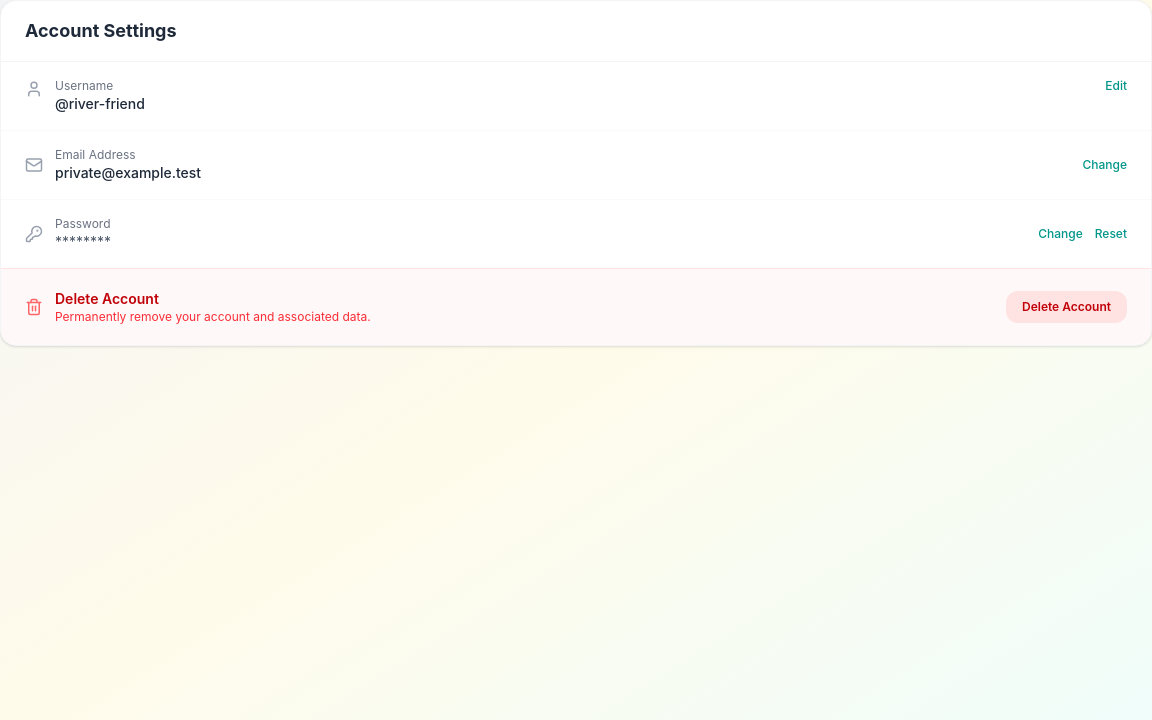
Test: username-only account settings › keeps the username available for correction when saving fails
This screenshot has width=1152, height=720.
Click the button "Edit" at [1116, 86], box [1105,78,1127,94]
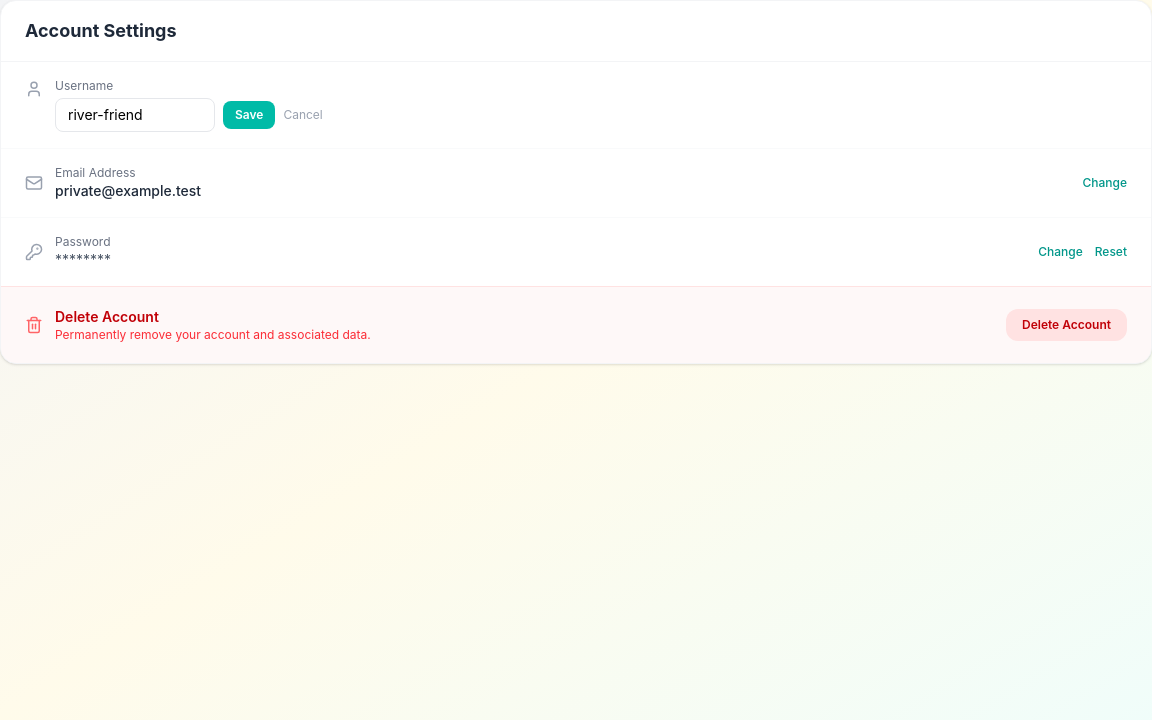
Click the button "Save" at [249, 115], box [223,101,275,129]
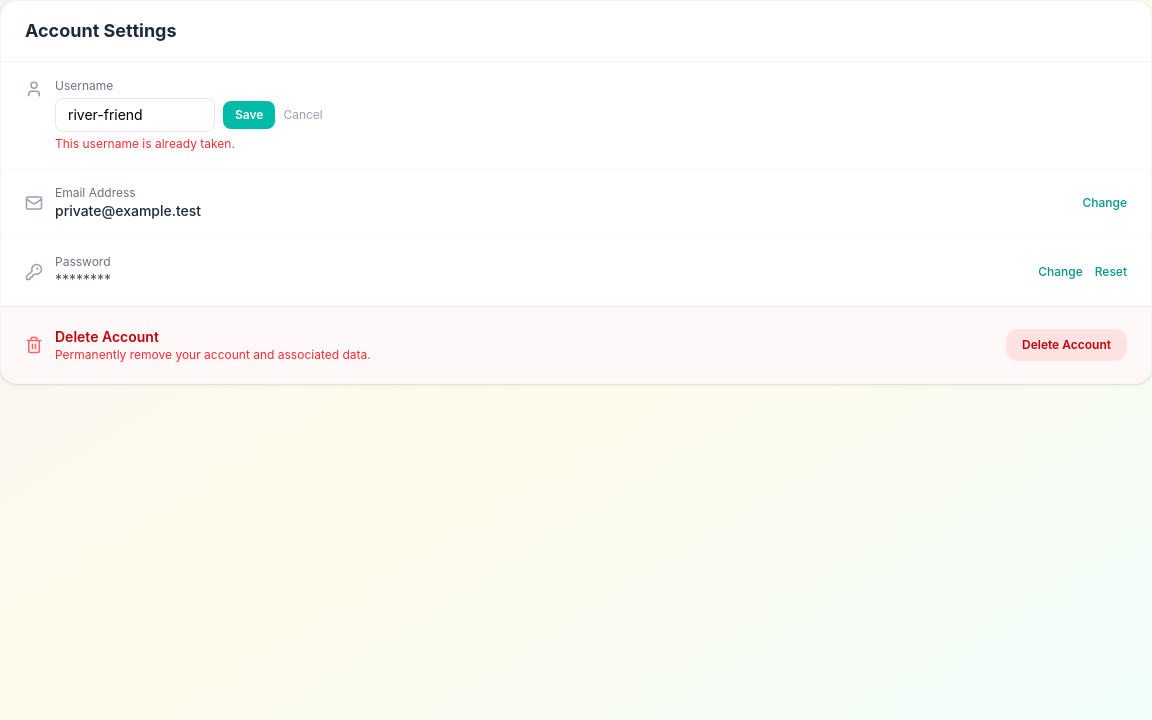
Check: the field named "Username" holds "river-friend", box [55,98,215,132]
Check: the text "This username is already taken." is shown, box [55,136,235,151]
